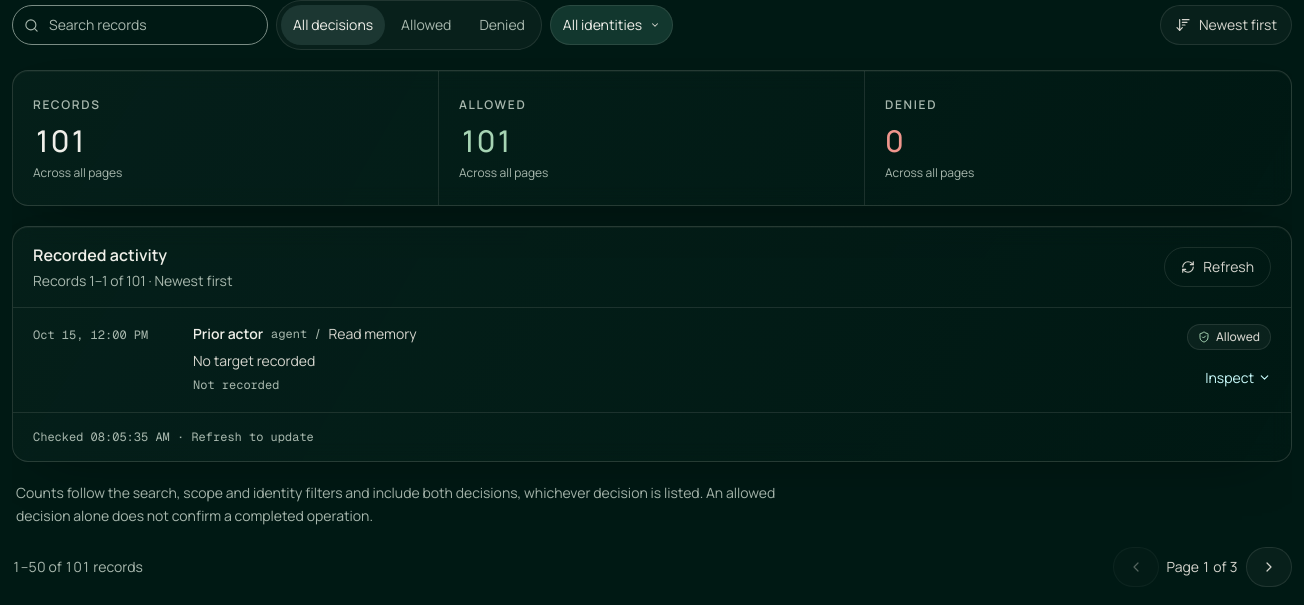
Test: keeps Previous focused during a return page turn without retaining old records
Click the button named "Next page" at coordinates (1269, 567), box [1246,547,1292,587]
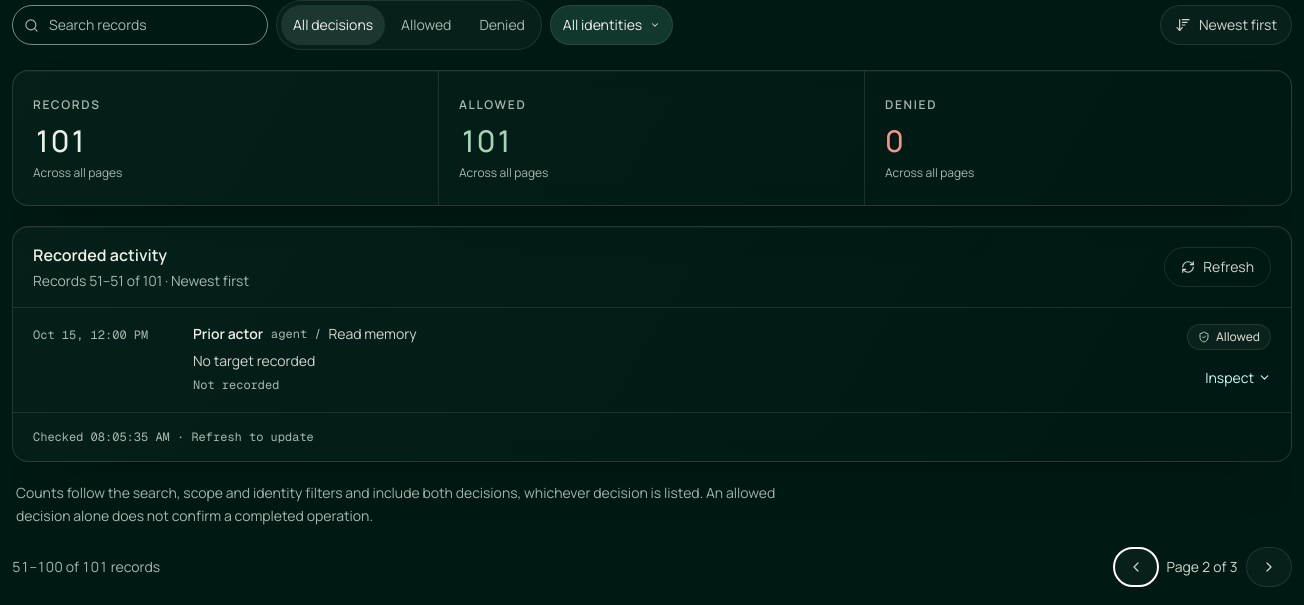
Now the text "Page 2 of 3" is shown, box [1167,557,1238,577]
Click the button named "Previous page" at coordinates (1136, 567), box [1113,547,1159,587]
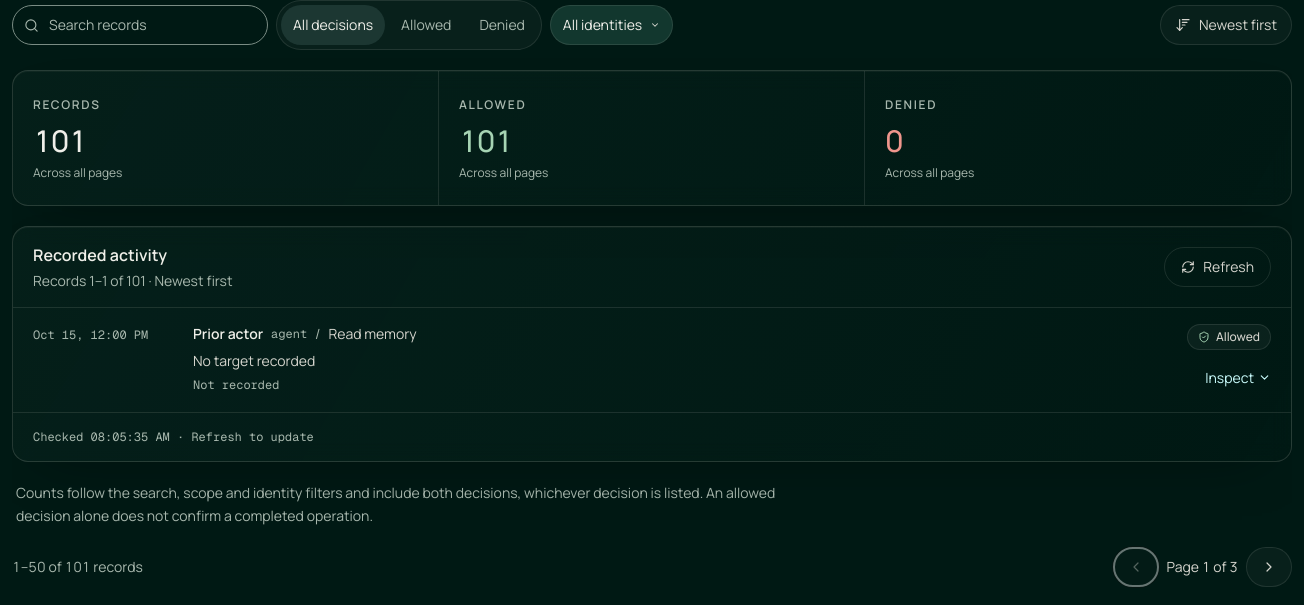
Now the text "Page 1 of 3" is shown, box [1167,557,1238,577]
